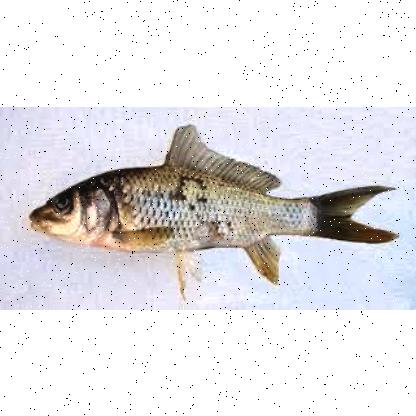ikan-mas: (26, 124, 400, 278)
